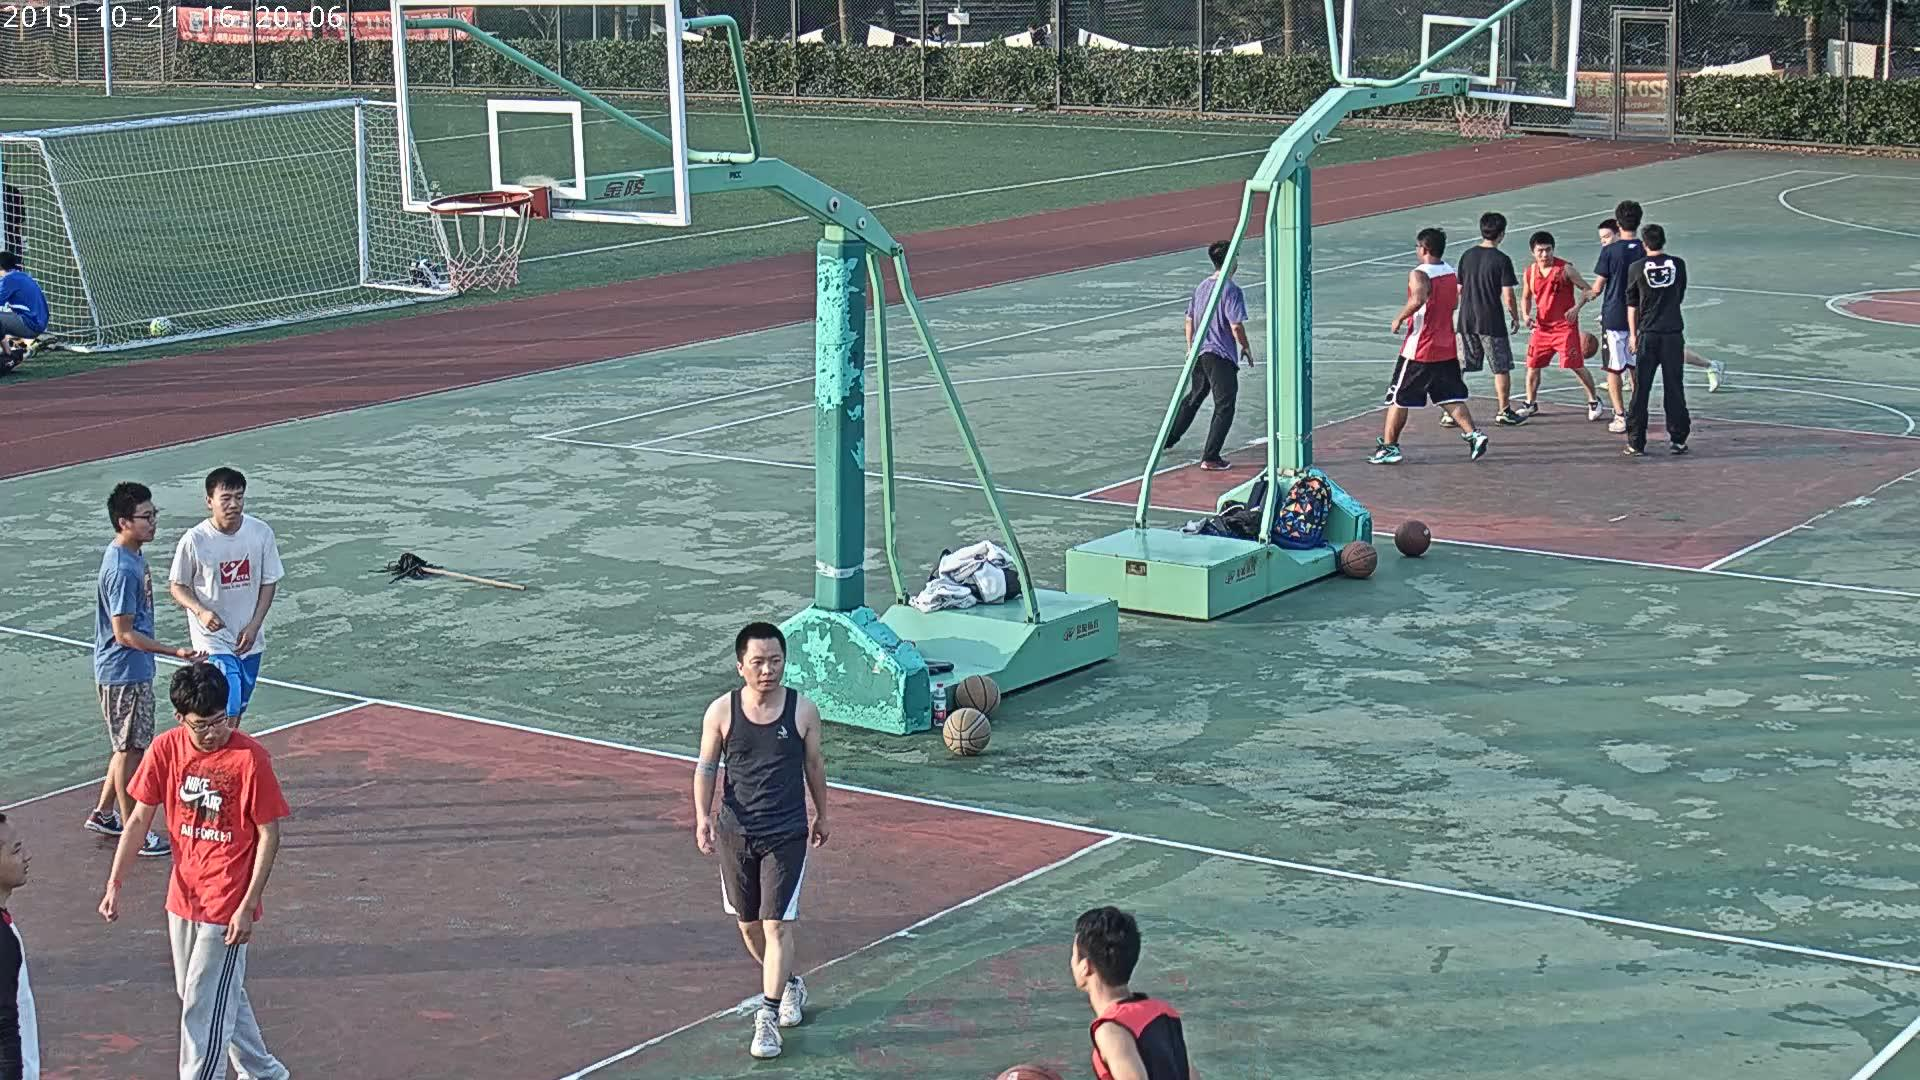person: (97, 662, 290, 1080), (692, 620, 829, 1057), (83, 481, 208, 856), (990, 905, 1189, 1080), (167, 466, 284, 730), (1365, 226, 1489, 464), (1582, 218, 1724, 393), (1163, 239, 1252, 471), (1439, 210, 1529, 427), (1513, 231, 1603, 421), (1621, 223, 1692, 455), (1587, 199, 1652, 432), (0, 811, 41, 1080), (0, 251, 49, 376), (0, 162, 26, 257)
